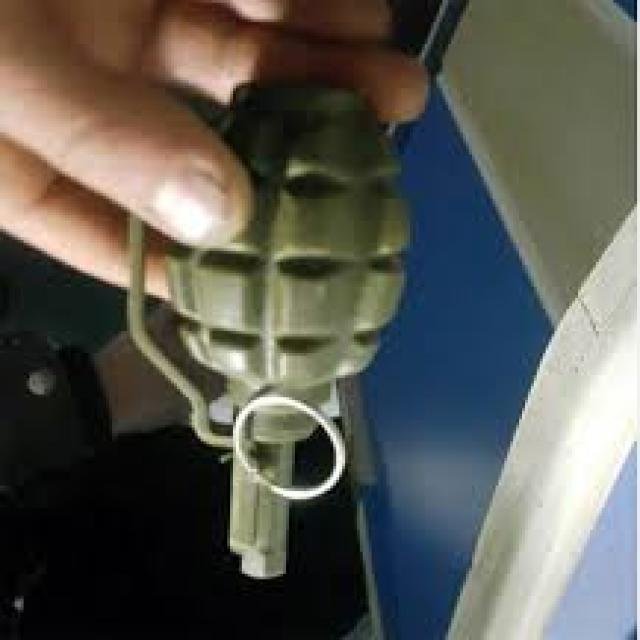grenade: (122, 76, 425, 586)
